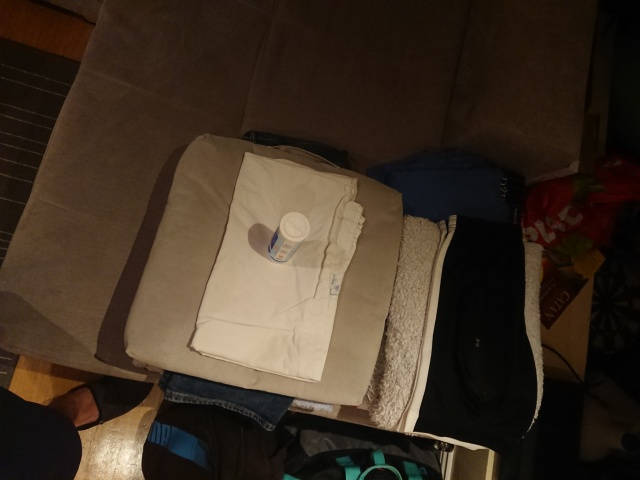Solana Pag Fine Sea Salt 250g: (265, 209, 312, 267)
